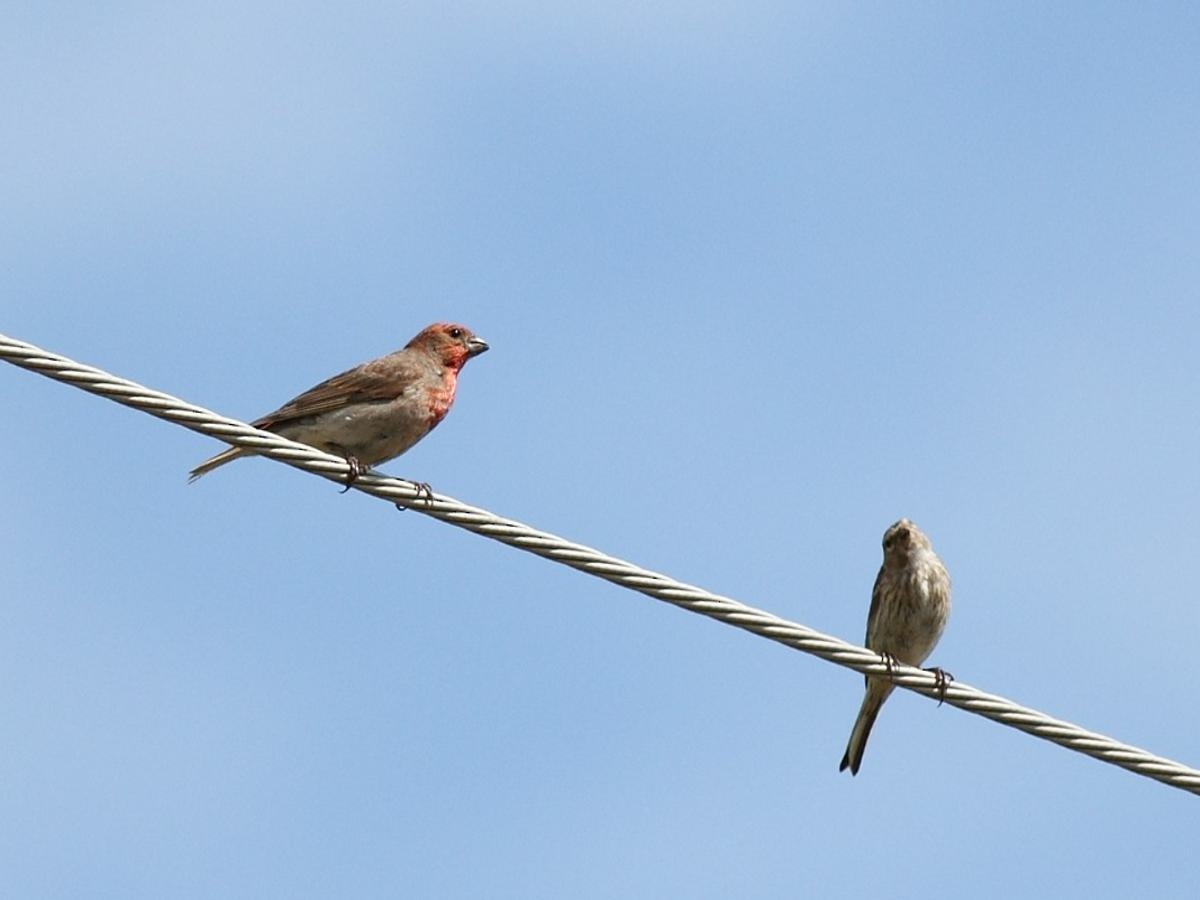rosefinch: (120, 301, 544, 500)
